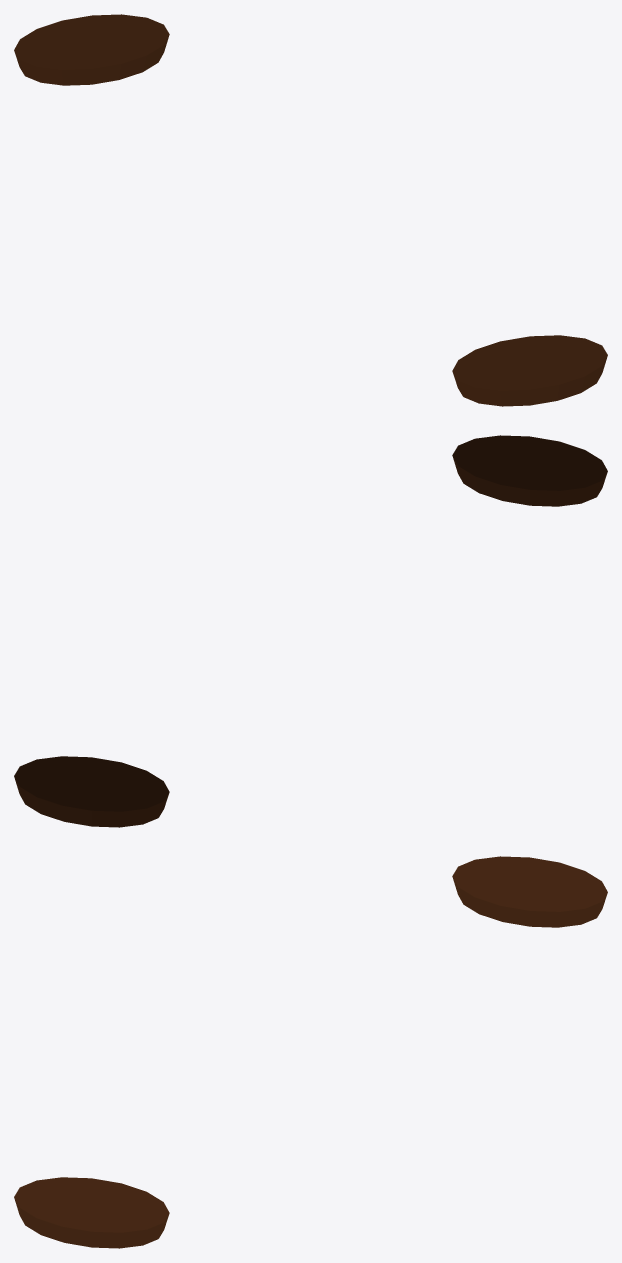
3 renders of one model, top to bottom at view 1: azimuth 30°, elevation 25°; view 2: azimuth 150°, elevation 25°; view 3: azimuth 330°, elevation 25°, orthographic.
Parts seen in each view (by area): view 1: Cylinder.059_ee47148a; view 2: Cylinder.059_ee47148a; view 3: Cylinder.059_ee47148a.
Boxes of the visible parts, left/top/right/bottom form: Cylinder.059_ee47148a: left=14, top=14, right=607, bottom=406; Cylinder.059_ee47148a: left=14, top=435, right=607, bottom=827; Cylinder.059_ee47148a: left=14, top=856, right=607, bottom=1248.
Size of the model in its own units: 0.0862 by 0.0133 by 0.516.
